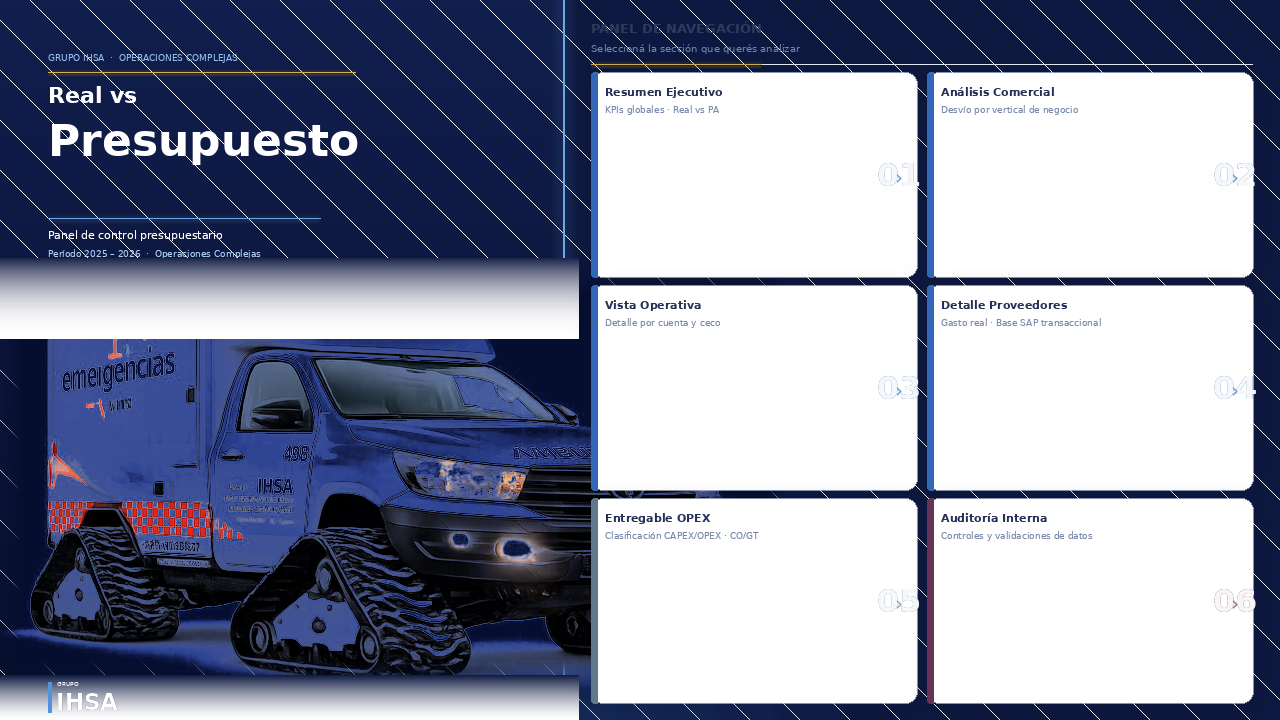

The dashboard page shown, as its layout file describes it:
{"tool":"powerbi","page":{"name":"0. Índice","canvas":[1280,720],"ordinal":0},"visuals":[{"type":"pageNavigator","box":[544,64,736,640],"z":0},{"type":"image","box":[0,240,496,480],"z":1000}]}

Visuals, with their boxes in screenshot pixels (x1, y1, x2, y2), scaled from the page's 1280x720 canvas onto the 1280x720 screenshot:
pageNavigator: (x1=544, y1=64, x2=1279, y2=704)
image: (x1=0, y1=240, x2=496, y2=719)
